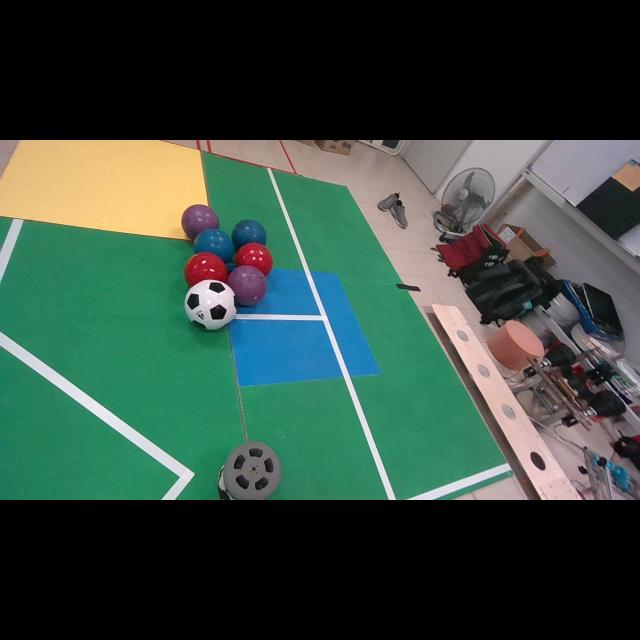B: (194, 229, 235, 264), (231, 220, 266, 251)
P: (226, 266, 266, 306), (181, 205, 220, 239)
R: (184, 251, 229, 286), (235, 242, 274, 276)
